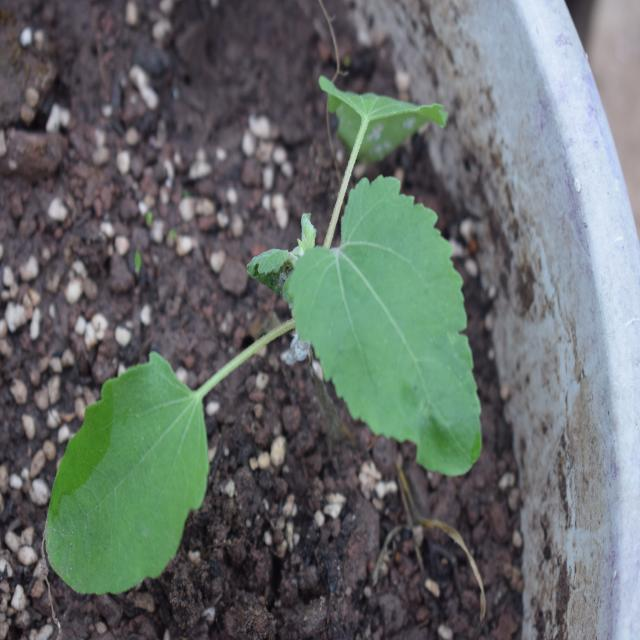cocklebur: (62, 46, 489, 560)
